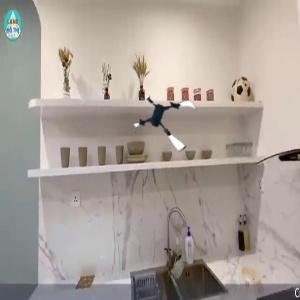drone: (136, 90, 201, 155)
